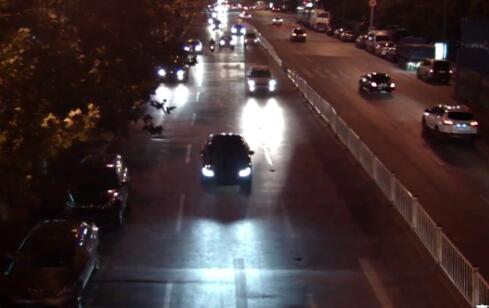bus: (304, 6, 329, 30), (296, 4, 308, 24)
car: (5, 212, 102, 303), (65, 153, 133, 226), (198, 132, 254, 193), (419, 99, 482, 144), (394, 34, 437, 69), (356, 71, 397, 98), (246, 64, 277, 98), (415, 57, 453, 84), (155, 57, 190, 85), (364, 29, 389, 51), (182, 36, 203, 54), (374, 40, 393, 58), (288, 26, 307, 42), (244, 30, 261, 47), (219, 34, 235, 50), (230, 22, 245, 36), (341, 28, 355, 41), (331, 27, 346, 39), (353, 32, 365, 46), (211, 18, 223, 31), (238, 10, 252, 19), (271, 15, 283, 24)
